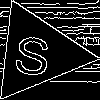S: (12, 27, 53, 77)
